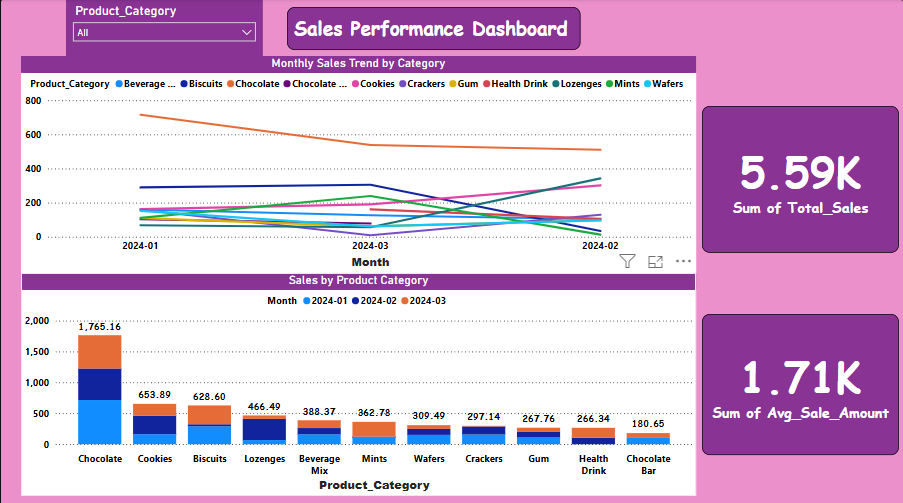

This screenshot's page, from the dashboard's own definition file:
{"tool":"powerbi","page":{"name":"Sales Performance Dashboard","canvas":[1280,720],"ordinal":0},"visuals":[{"type":"lineChart","title":"Monthly Sales Trend by Category","fields":{"Category":["vw_Monthly_Sales_By_Category.Month"],"Y":["Sum(vw_Monthly_Sales_By_Category.Total_Sales)"],"Series":["vw_Monthly_Sales_By_Category.Product_Category"]},"box":[29.8,80.8,956.7,307.6],"z":0},{"type":"columnChart","title":"Sales by Product Category","fields":{"Category":["vw_Monthly_Sales_By_Category.Product_Category"],"Y":["Sum(vw_Monthly_Sales_By_Category.Total_Sales)"],"Series":["vw_Monthly_Sales_By_Category.Month"]},"box":[29.8,388.3,956.7,316.1],"z":1000},{"type":"card","fields":{"Values":["Sum(vw_Monthly_Sales_By_Category.Total_Sales)"]},"box":[995,151.7,279.2,208.3],"z":2000},{"type":"card","fields":{"Values":["Sum(vw_Monthly_Sales_By_Category.Avg_Sale_Amount)"]},"box":[995,446.5,279.2,199.8],"z":3000},{"type":"textbox","box":[407,10.9,416.3,60.6],"z":4000},{"type":"slicer","fields":{"Values":["vw_Product_Performance.Product_Category"]},"box":[94.1,0,279,81.1],"z":5000}]}

Visuals, with their boxes in screenshot pixels (x1, y1, x2, y2), scaled from the page's 1280x720 canvas onto the 903x503 screenshot:
"Monthly Sales Trend by Category" lineChart: (21, 56, 696, 271)
"Sales by Product Category" columnChart: (21, 271, 696, 492)
card - Sum(vw_Monthly_Sales_By_Category.Total_Sales): (702, 106, 899, 252)
card - Sum(vw_Monthly_Sales_By_Category.Avg_Sale_Amount): (702, 312, 899, 452)
textbox: (287, 8, 581, 50)
slicer - vw_Product_Performance.Product_Category: (66, 0, 263, 57)
